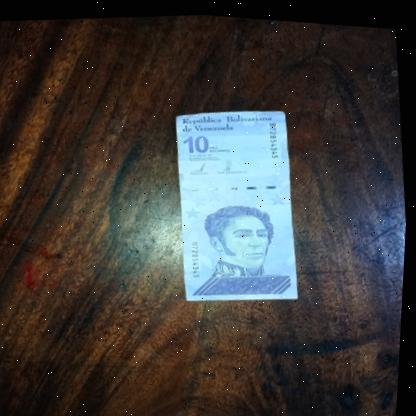ten-front-vef: (168, 98, 309, 306)
